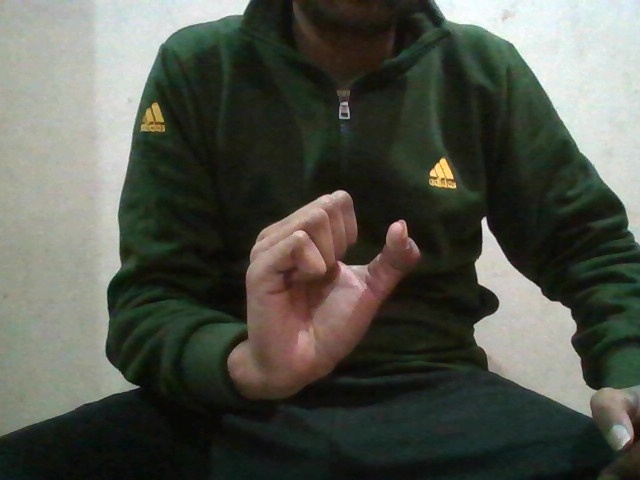S: (236, 188, 419, 367)
